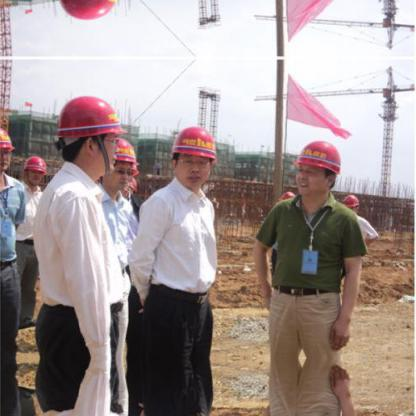helmet: (56, 89, 125, 178), (290, 135, 345, 201), (169, 120, 220, 187), (56, 0, 126, 24), (109, 135, 139, 188), (24, 150, 49, 184), (2, 121, 16, 180), (341, 187, 360, 217)
